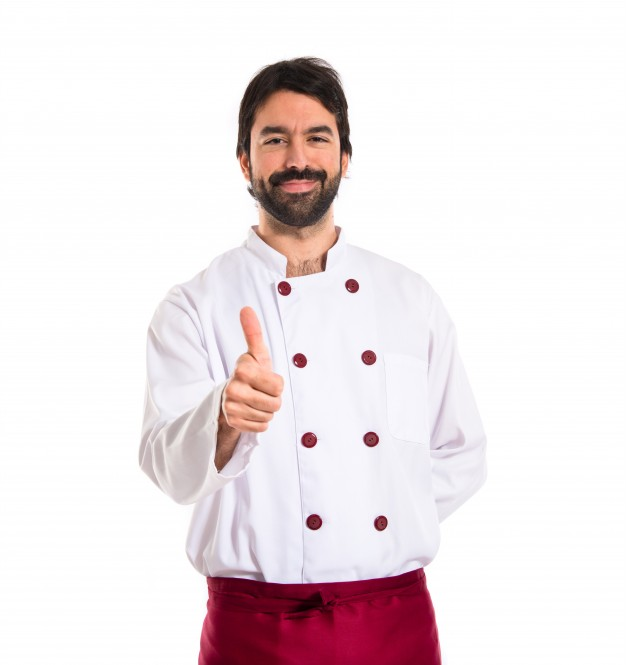thumbsup: (222, 307, 286, 433)
